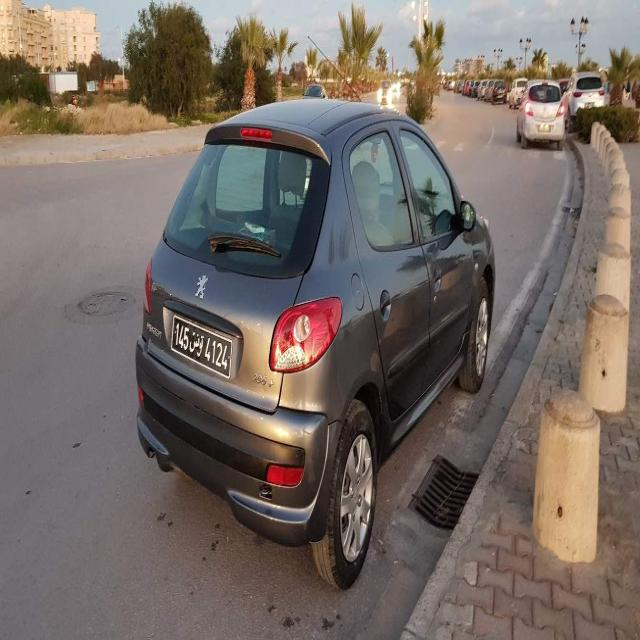LP: (170, 311, 233, 378)
